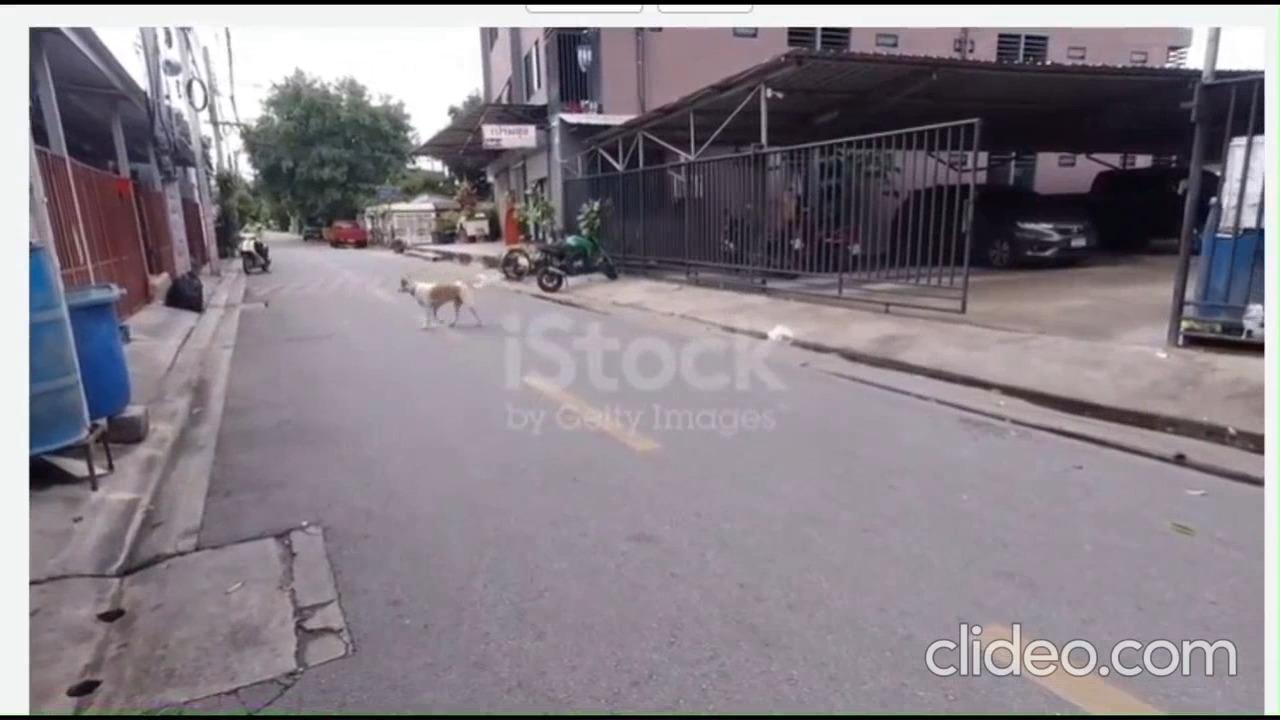dog: (393, 270, 489, 335)
